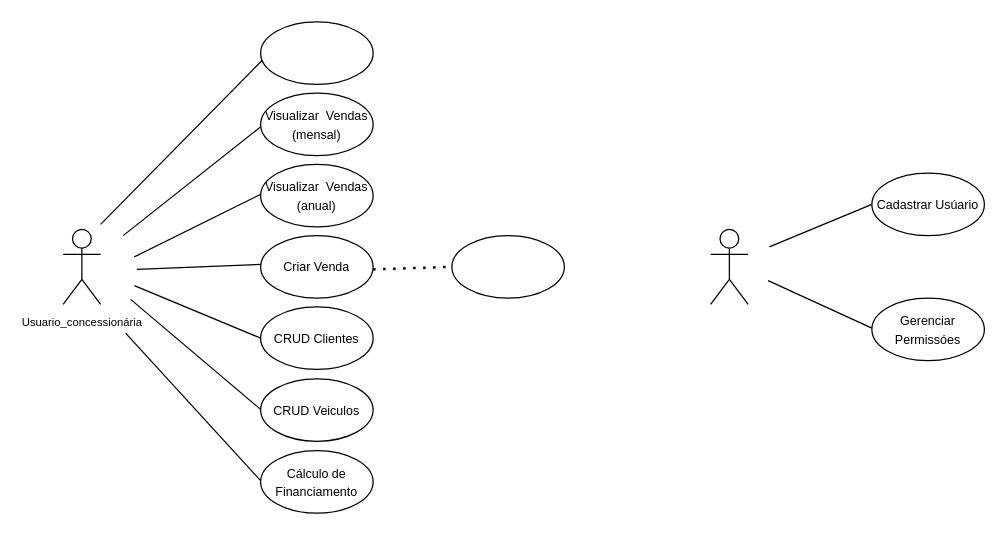
The diagram is 1006 pixels wide and 535 high, and some of its shapes have lost their labels. The centre of each missing label's shape, as x and y in pixels:
"Administrador" belongs at [728,266].
"Gerar Venda" belongs at [507,266].
"Visualizar relatório de vendas" belongs at [316,52].
